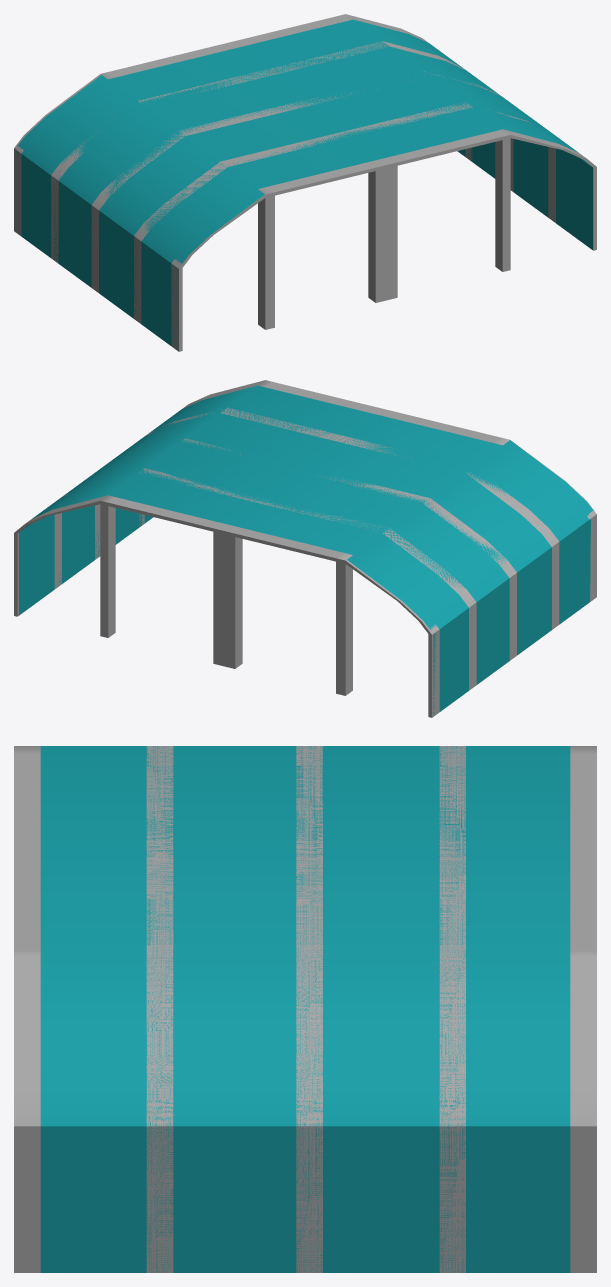
Rendered from tak.fbx.
3 renders of one model, top to bottom at view 1: azimuth 30°, elevation 25°; view 2: azimuth 150°, elevation 25°; view 3: azimuth 270°, elevation 25°, orthographic. The views are drawn at different scales.
Visible parts, largest first — view 1: pCube84; view 2: pCube84; view 3: pCube84.
Boxes of the visible parts, x1=… form: pCube84: x1=14, y1=14, x2=596, y2=351; pCube84: x1=14, y1=380, x2=596, y2=717; pCube84: x1=14, y1=746, x2=596, y2=1272.
Size of the model in its own units: 130 by 40.43 by 88.71.
